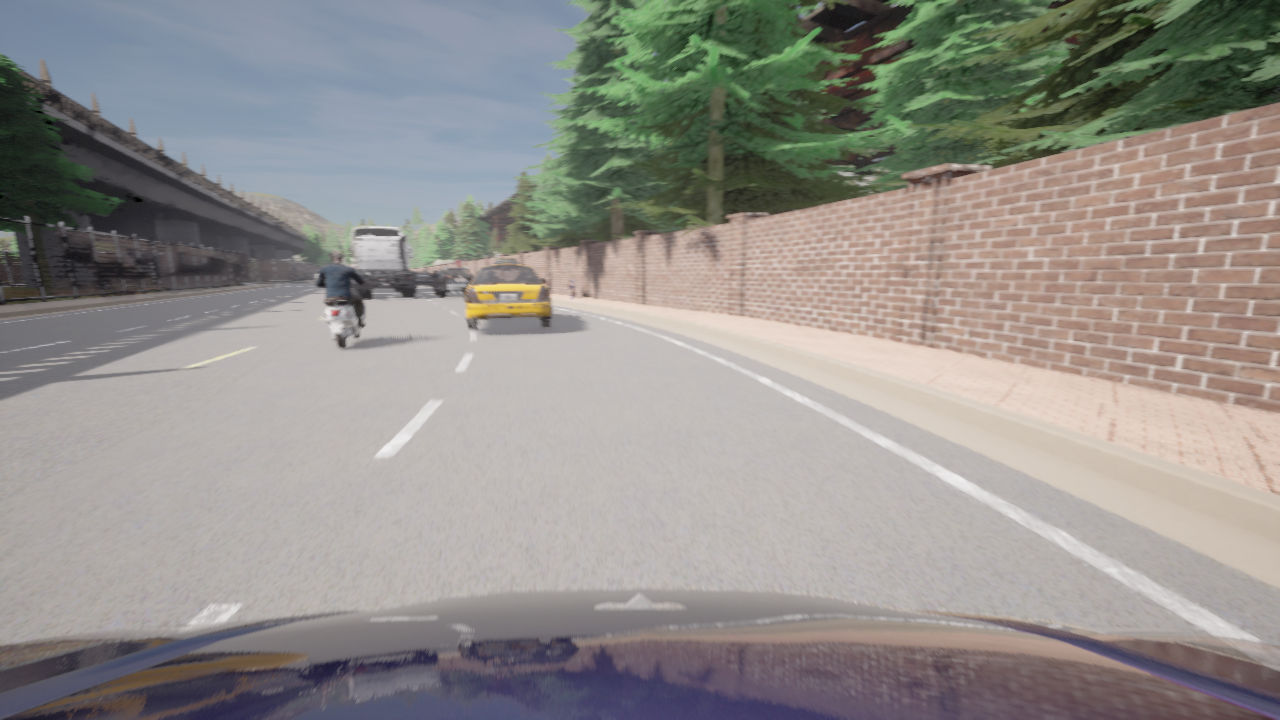cyclist: (0, 588, 1279, 719), (464, 258, 550, 329), (315, 272, 370, 348), (349, 235, 415, 298), (349, 226, 401, 290), (434, 266, 474, 296), (415, 272, 432, 286), (429, 274, 436, 278)
pedestrian: (569, 274, 576, 298)
